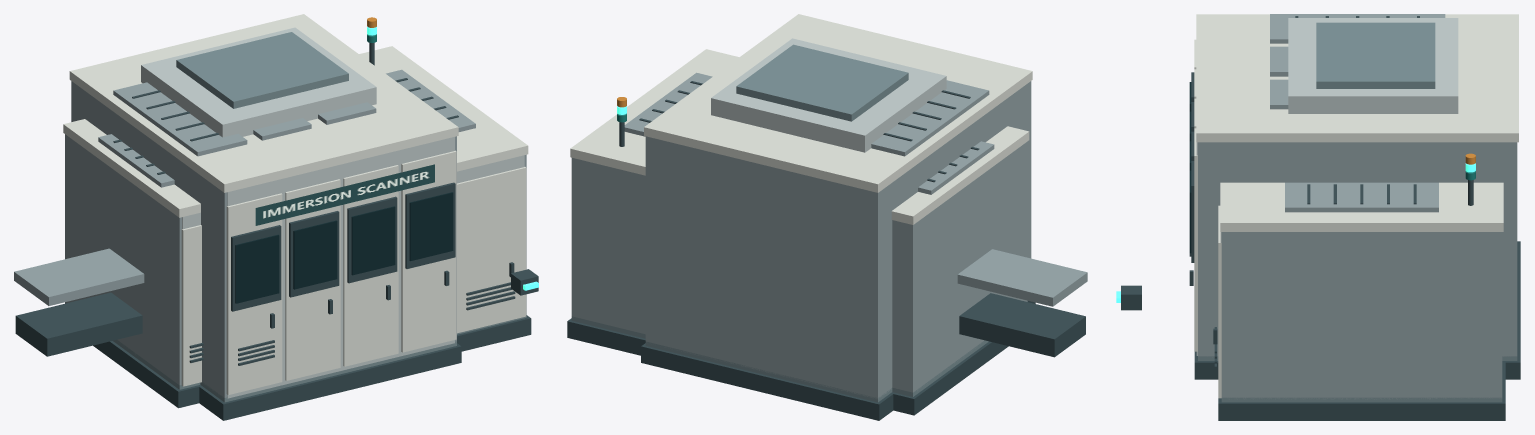
The model's file is scanner.glb.
3 renders of one model, left to right at view 1: azimuth 30°, elevation 25°; view 2: azimuth 150°, elevation 25°; view 3: azimuth 270°, elevation 25°, orthographic. The views are drawn at different scales.
Parts seen in each view (by area): view 1: outer_panels, process_modules; view 2: outer_panels, process_modules; view 3: outer_panels, process_modules.
Boxes of the visible parts, left/top/right/bottom form: outer_panels: left=14, top=14, right=531, bottom=420; process_modules: left=15, top=269, right=538, bottom=356; outer_panels: left=567, top=14, right=1087, bottom=420; process_modules: left=959, top=293, right=1085, bottom=357; outer_panels: left=1189, top=14, right=1520, bottom=420; process_modules: left=1121, top=285, right=1141, bottom=310.
Bounding box in the file's own units: 6.03 × 3.46 × 4.69.
Materials: 10 (1 with a texture image).
